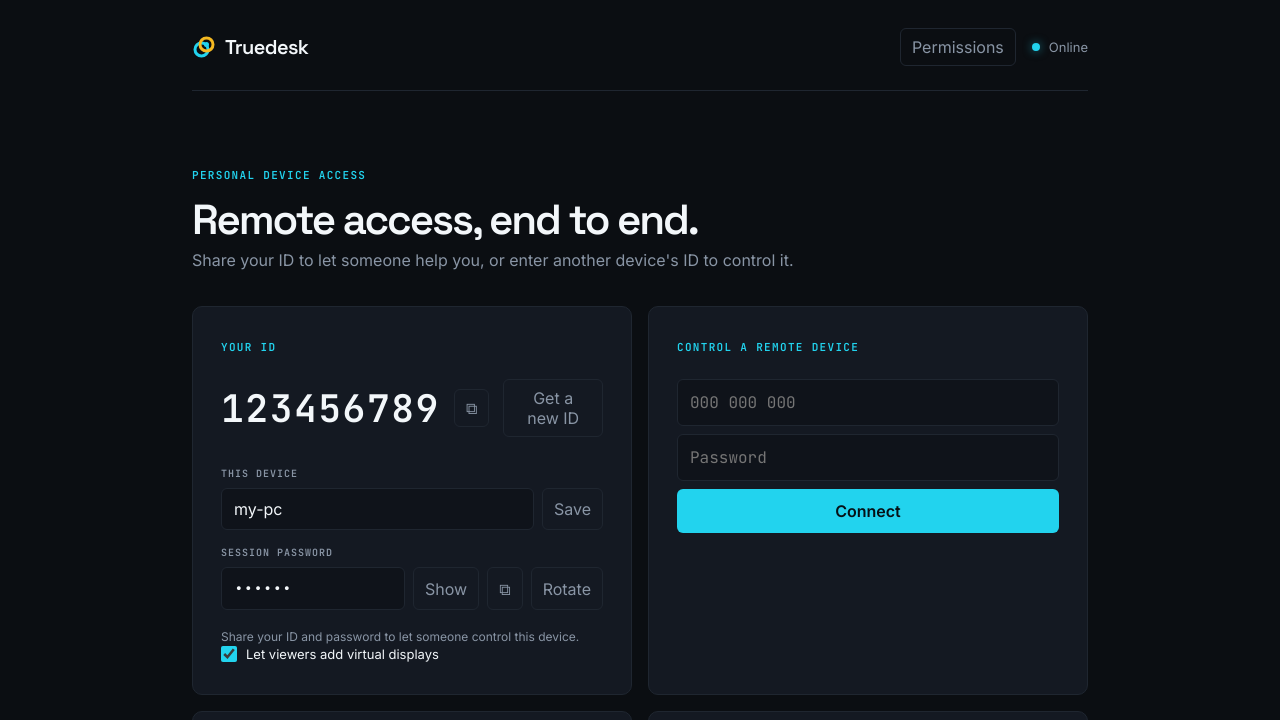
Test: Home › gets a new ID only after the user confirms
expect the text "123456789" is shown: met, box [221, 383, 440, 433]
Click the button "Get a new ID": click(553, 408) [503, 379, 603, 437]
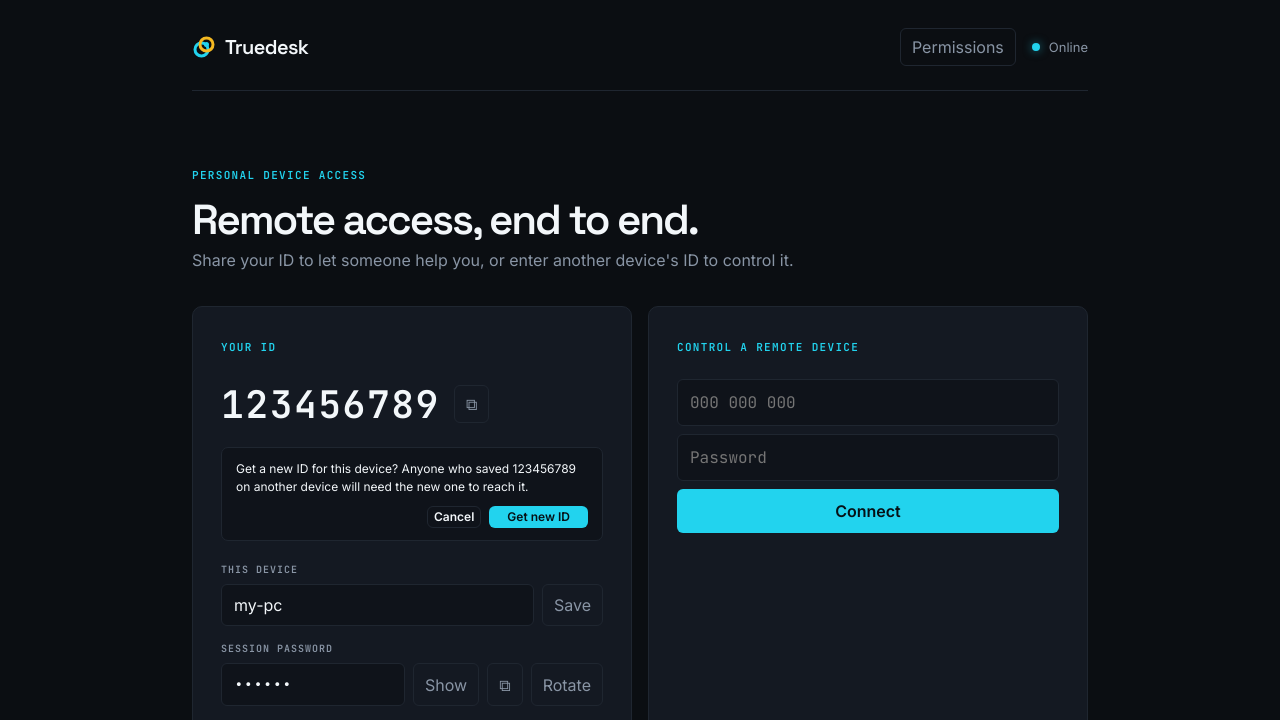
expect the element named "Confirm new ID" shows "Anyone who saved 123456789": met, box [221, 447, 603, 541]
Click the button "Cancel": click(454, 517) [427, 506, 481, 528]
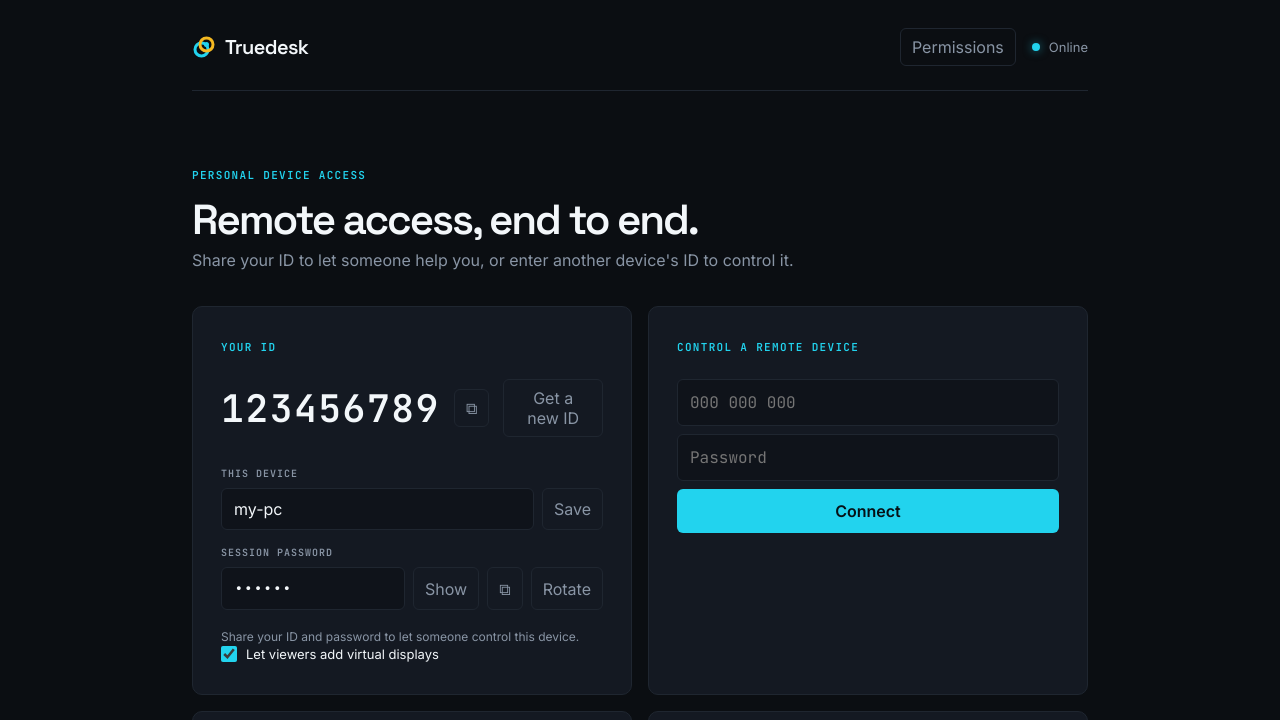
Click the button "Get a new ID": click(553, 408) [503, 379, 603, 437]
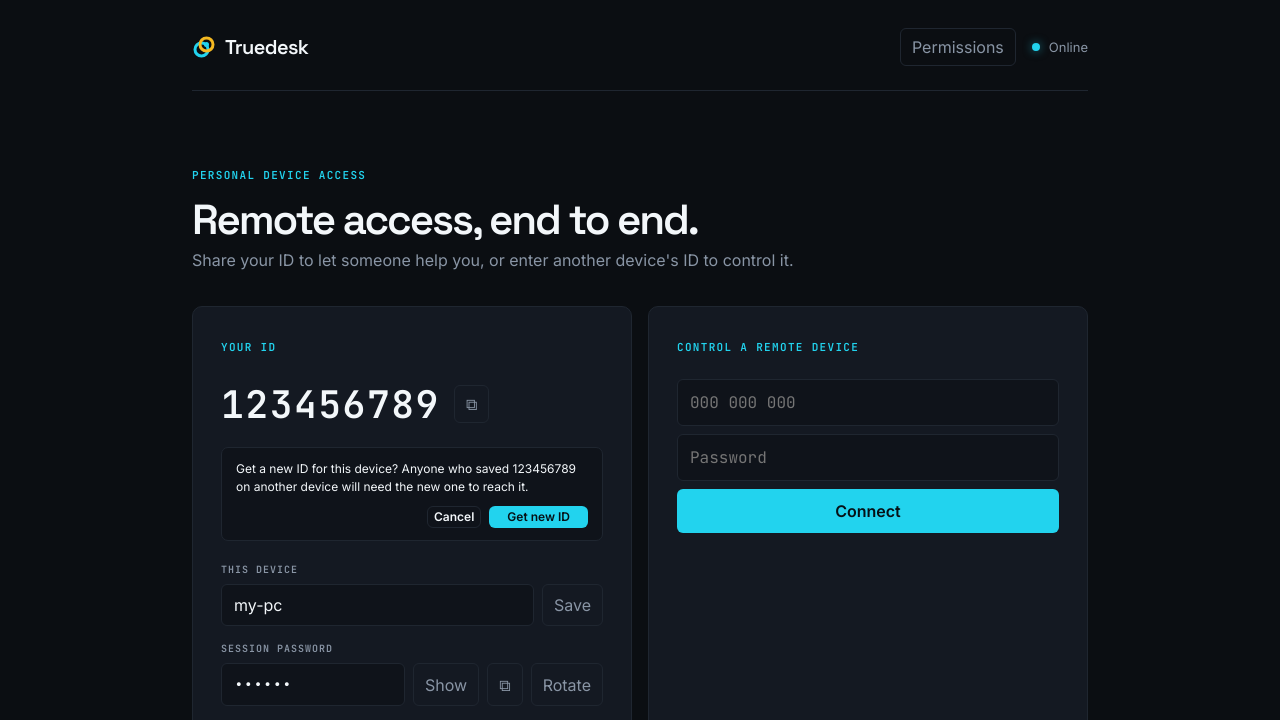
Click the button "Get new ID": click(539, 517) [489, 506, 588, 528]
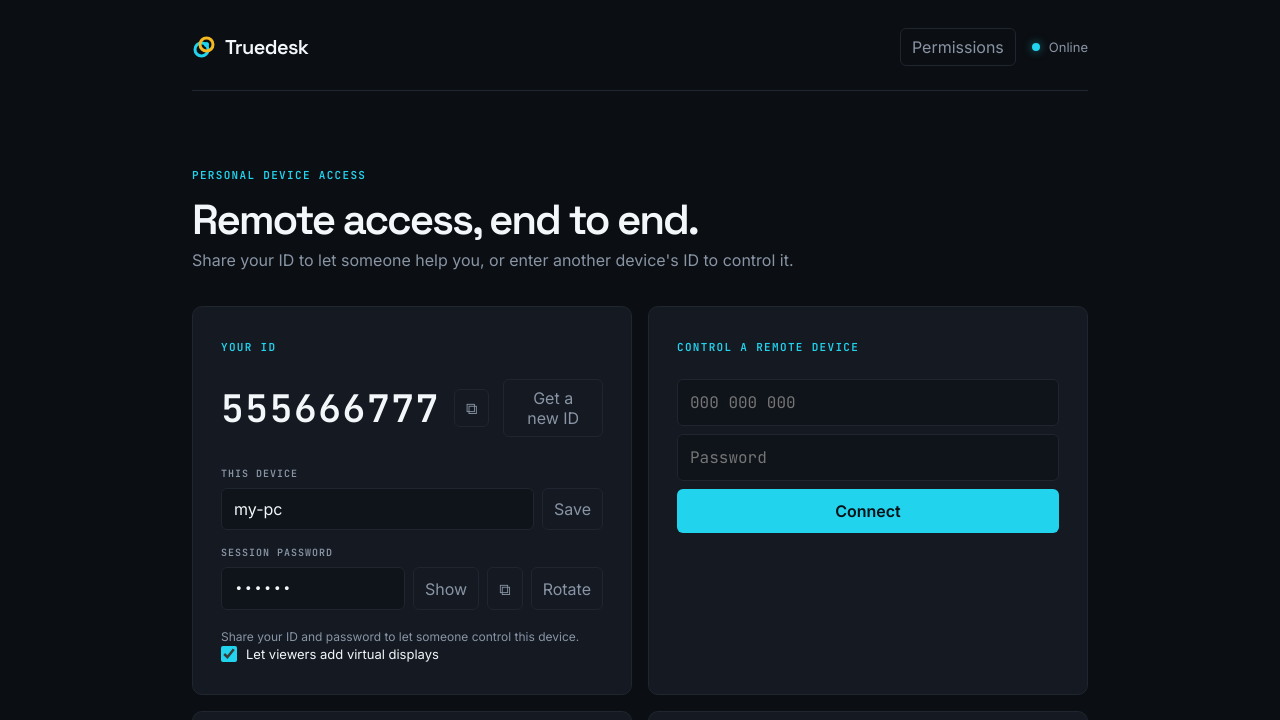
expect the text "555666777" is shown: met, box [221, 383, 440, 433]
